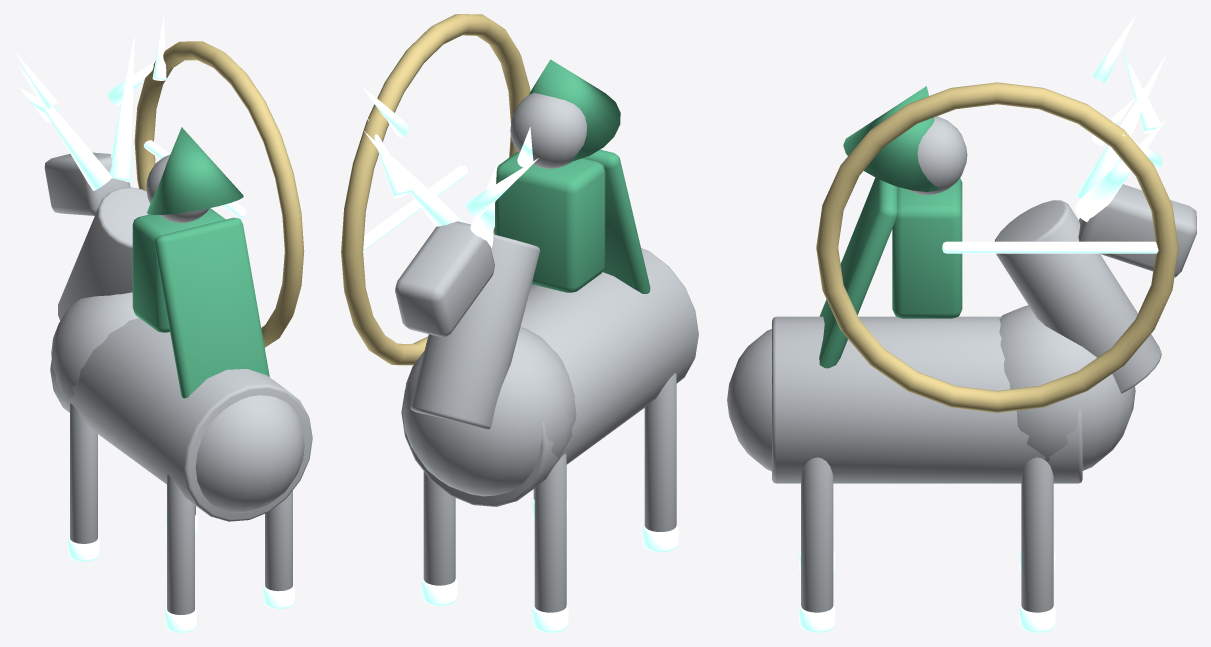
The model's file is hero_sylvanis.glb.
The picture shows the model from 3 angles, left to right: view 1: azimuth 30°, elevation 25°; view 2: azimuth 150°, elevation 25°; view 3: azimuth 270°, elevation 25°; orthographic projection. The views are drawn at different scales.
Visible parts, largest first — view 1: StaticBody, Anim_Weapon; view 2: StaticBody, Anim_Weapon; view 3: StaticBody, Anim_Weapon.
Part boxes in pixels (box(x1,y1,x2,y2)): StaticBody: box(15, 15, 312, 632); Anim_Weapon: box(134, 41, 304, 347); StaticBody: box(361, 59, 698, 632); Anim_Weapon: box(341, 14, 530, 365); StaticBody: box(727, 15, 1196, 632); Anim_Weapon: box(816, 82, 1178, 412).
Size of the model in its own units: 1 by 3.06 by 2.35.
